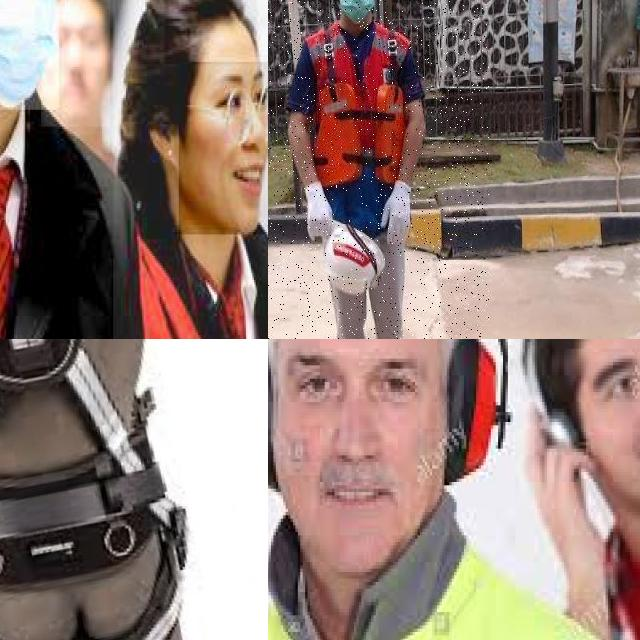Ear-protection: (437, 339, 495, 482)
Harness: (0, 339, 144, 474)
face_mask: (0, 0, 58, 109)
face_nomask: (178, 61, 268, 234), (41, 0, 110, 126)
glasses: (220, 78, 268, 155)
head_helmet: (320, 217, 385, 298)
head_nohelmet: (164, 0, 257, 64)
person: (268, 0, 489, 339), (113, 0, 268, 339), (0, 0, 129, 339)
vest: (302, 28, 413, 239)
